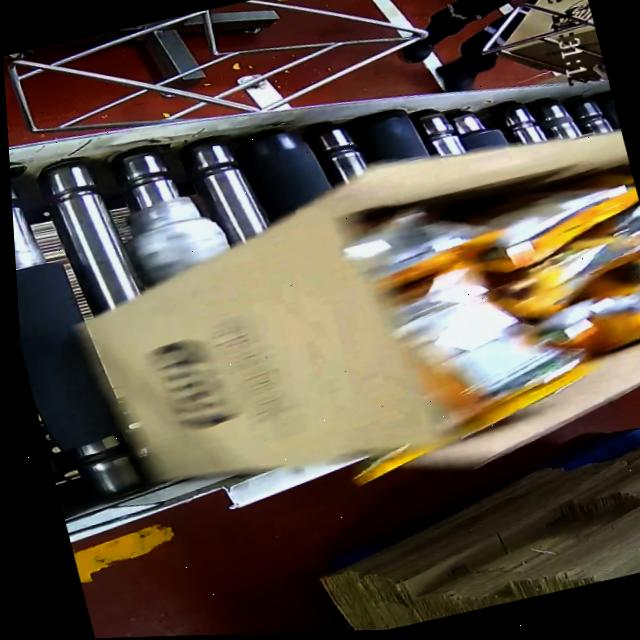FRENCH_CHEESE: (339, 147, 640, 451)
